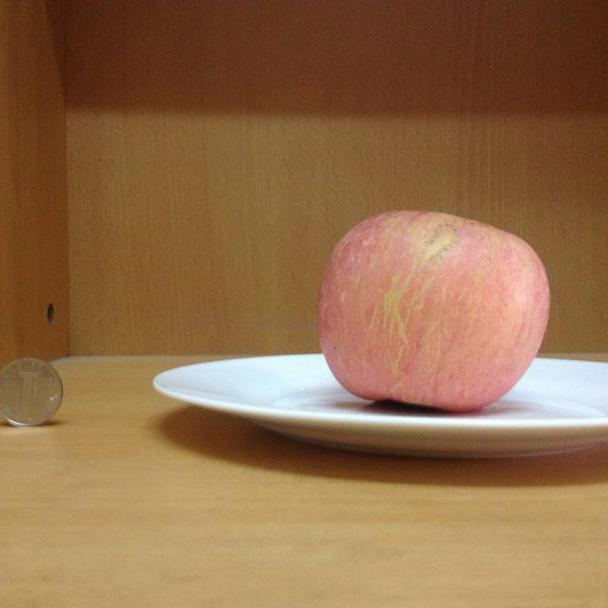apple: (315, 207, 556, 410)
